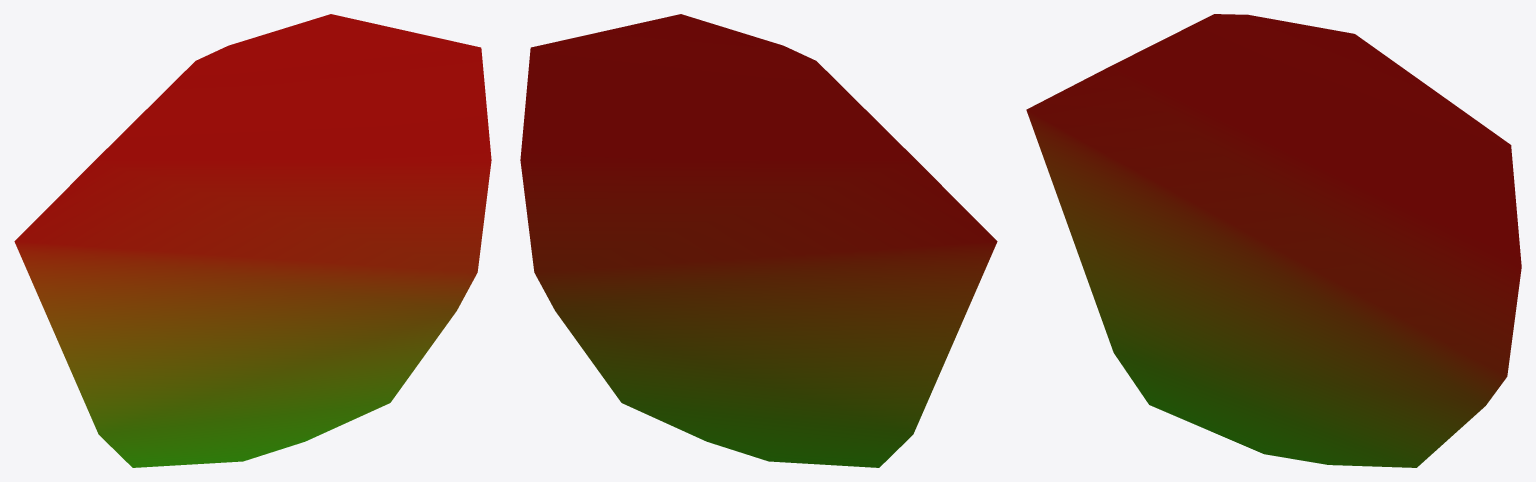
Rendered from Var6_LOD7.fbx.
3 renders of one model, left to right at view 1: azimuth 30°, elevation 25°; view 2: azimuth 150°, elevation 25°; view 3: azimuth 330°, elevation 25°, orthographic. The views are drawn at different scales.
Visible parts, largest first — view 1: _x939_Var6_LOD7; view 2: _x939_Var6_LOD7; view 3: _x939_Var6_LOD7.
Boxes of the visible parts, x1,y1,x2,y2 form: _x939_Var6_LOD7: (14, 14, 491, 467); _x939_Var6_LOD7: (520, 14, 997, 467); _x939_Var6_LOD7: (1026, 14, 1521, 467).
Bounding box in the file's own units: 34.26 × 29.24 × 5.4e-07.
